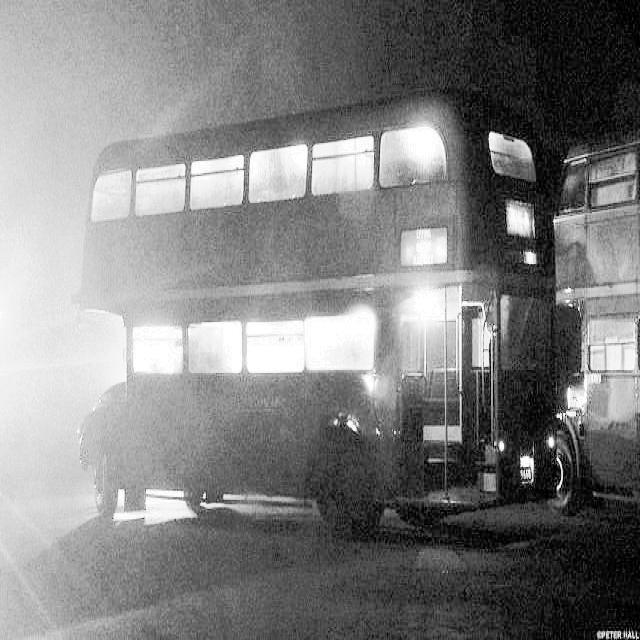Bus: (76, 90, 578, 534), (555, 121, 640, 559)
